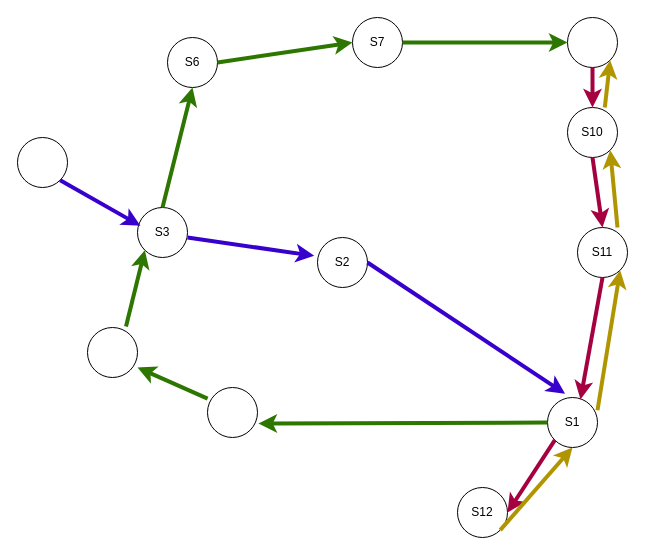
This 648x558 diagram has some shape labels left out. The centre of each missing label's shape, as x and y in pixels:
S4: pixel 232 412
S5: pixel 112 352
S8: pixel 592 42
S9: pixel 42 162
